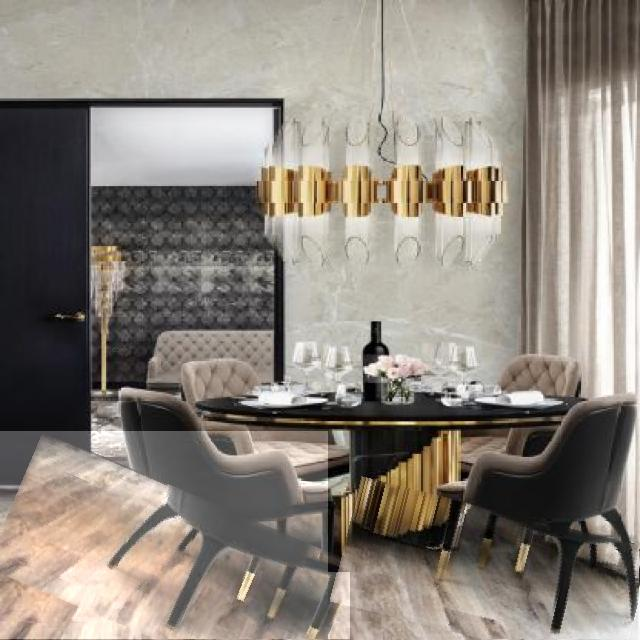floor: (0, 431, 328, 640), (330, 504, 632, 640), (313, 572, 350, 640)
